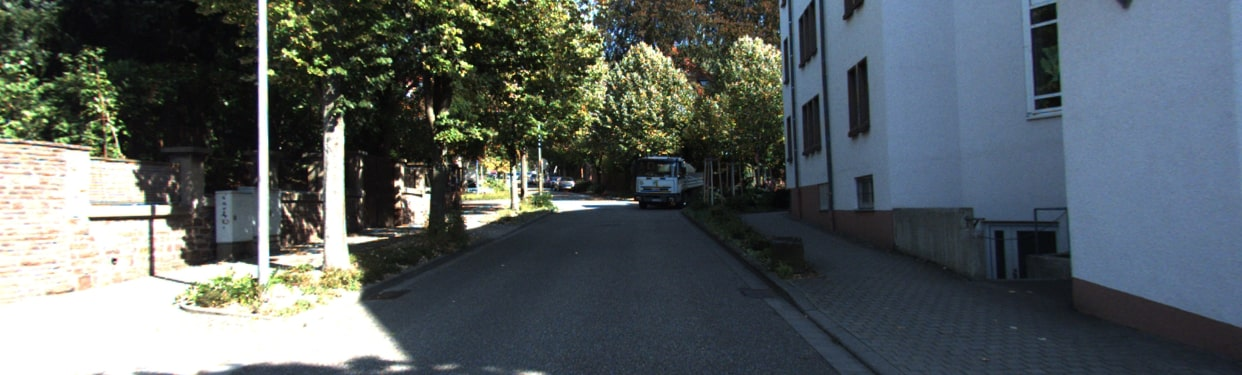car: (634, 159, 705, 210)
